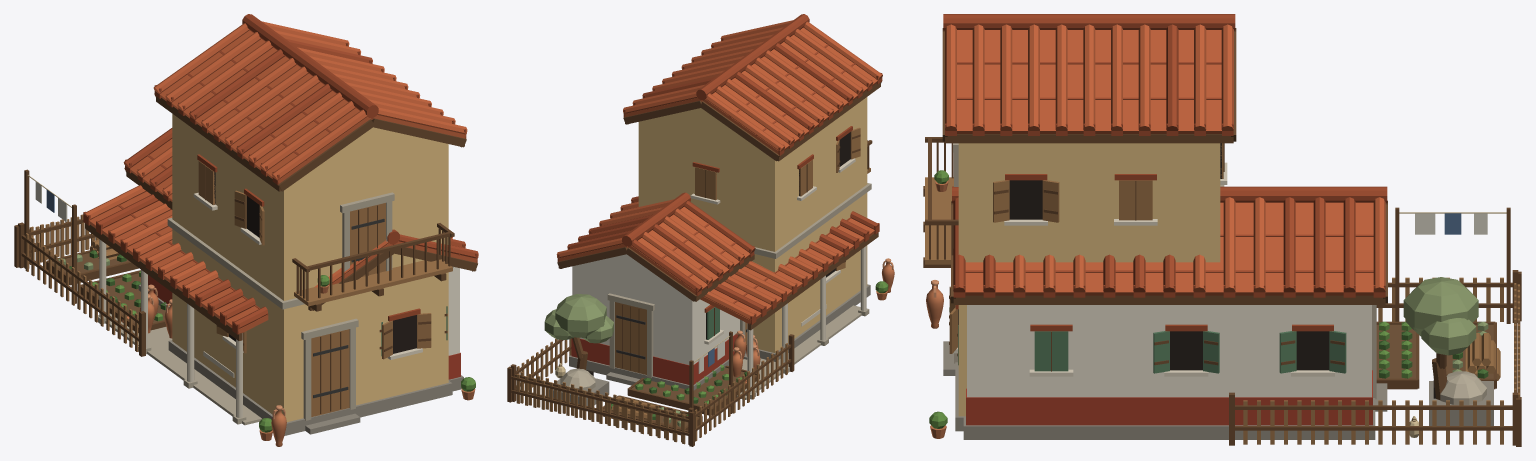
File: Schmalhaus.fbx
3 renders of one model, left to right at view 1: azimuth 30°, elevation 25°; view 2: azimuth 150°, elevation 25°; view 3: azimuth 270°, elevation 25°, orthographic. The views are drawn at different scales.
Parts seen in each view (by area): view 1: Schmalhaus_0, Schmalhaus_1; view 2: Schmalhaus_0, Schmalhaus_1; view 3: Schmalhaus_1, Schmalhaus_0.
Part boxes in pixels (left/top/right/bottom): Schmalhaus_0: left=18, top=14, right=475, bottom=446; Schmalhaus_1: left=14, top=128, right=478, bottom=440; Schmalhaus_0: left=510, top=14, right=894, bottom=444; Schmalhaus_1: left=507, top=192, right=888, bottom=446; Schmalhaus_1: left=949, top=186, right=1521, bottom=446; Schmalhaus_0: left=923, top=14, right=1518, bottom=445.
Bounding box in the file's own units: 1.81 × 2.42 × 3.55.
